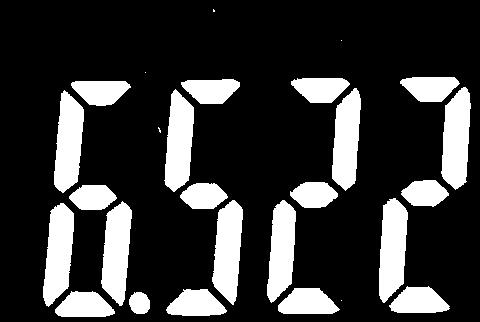2: (263, 77, 364, 315), (377, 79, 472, 316)
5: (166, 76, 249, 320)
6: (40, 75, 133, 320)
dot: (126, 292, 152, 317)
